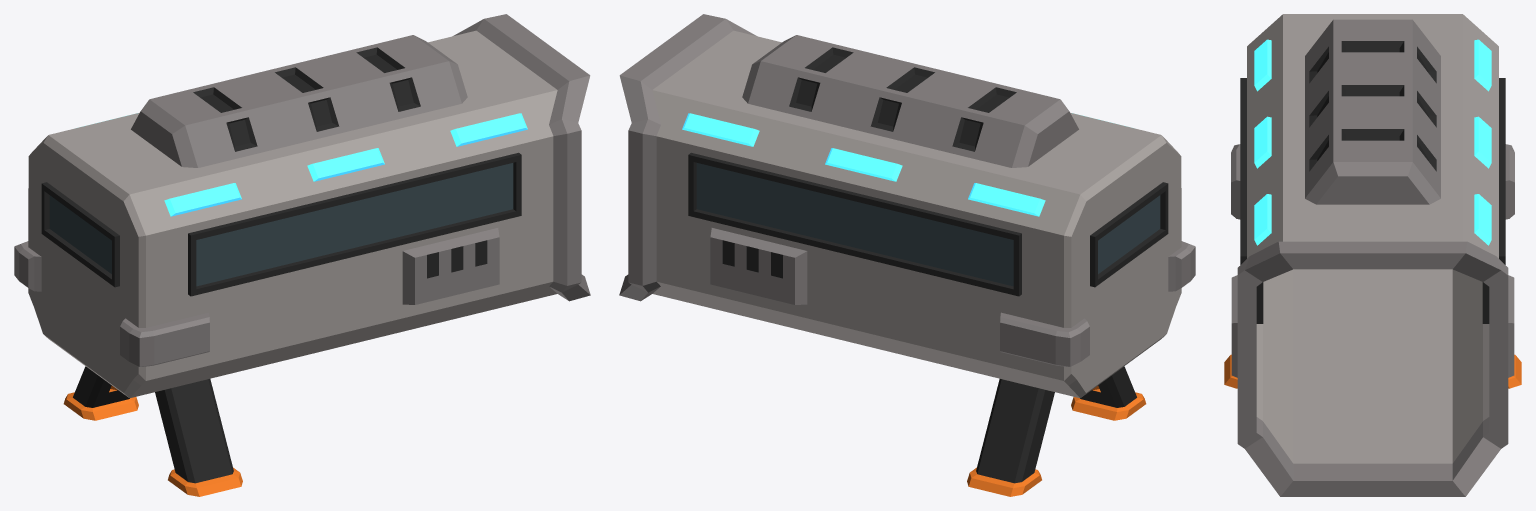
File: scifi_scifi-planet-base-side-sleeping.fbx
The picture shows the model from 3 angles, left to right: view 1: azimuth 30°, elevation 25°; view 2: azimuth 150°, elevation 25°; view 3: azimuth 270°, elevation 25°; orthographic projection. The views are drawn at different scales.
Visible parts, largest first — view 1: scifi_scifi_planet_base_side_sleeping; view 2: scifi_scifi_planet_base_side_sleeping; view 3: scifi_scifi_planet_base_side_sleeping.
Part boxes in pixels (x1,y1,x2,y2): scifi_scifi_planet_base_side_sleeping: (14, 14, 590, 496); scifi_scifi_planet_base_side_sleeping: (619, 14, 1195, 496); scifi_scifi_planet_base_side_sleeping: (1224, 14, 1521, 496).
Size of the model in its own units: 199 by 131 by 97.78.
